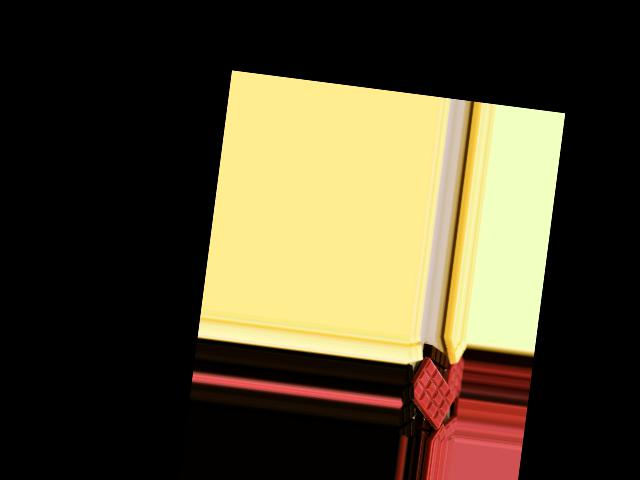chocolate: (397, 355, 461, 432)
